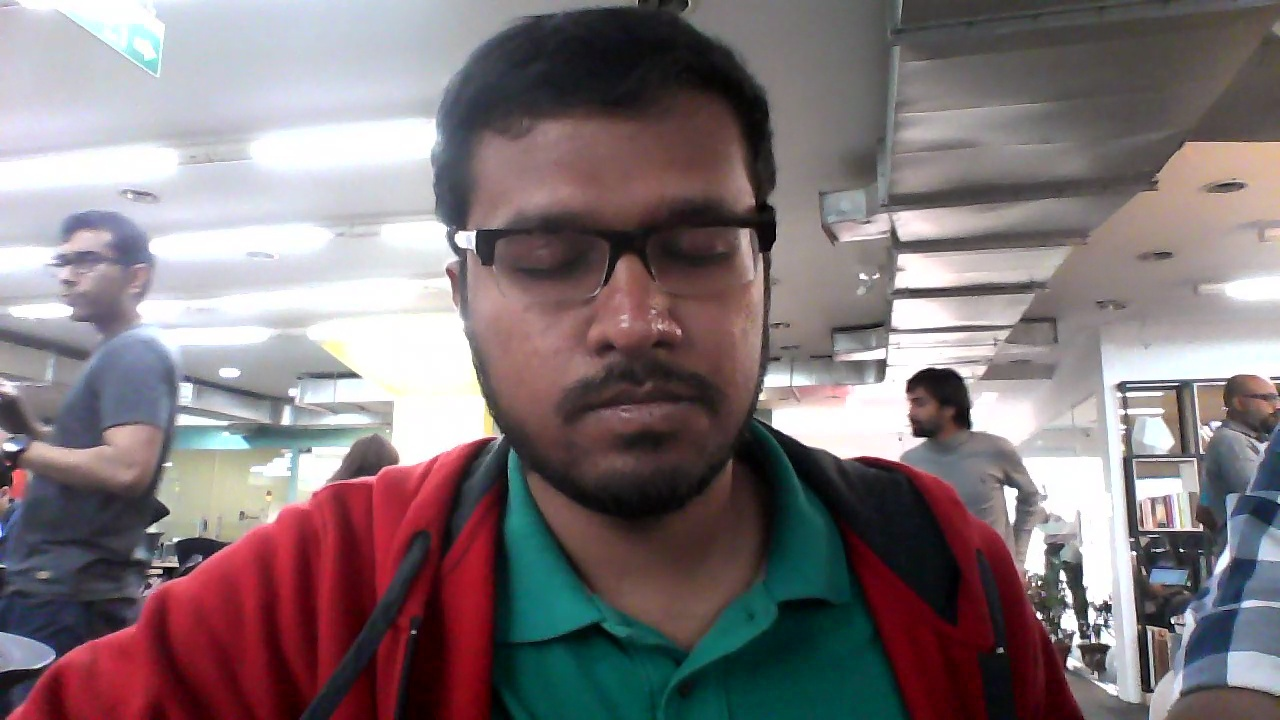closed: (429, 8, 786, 530)
